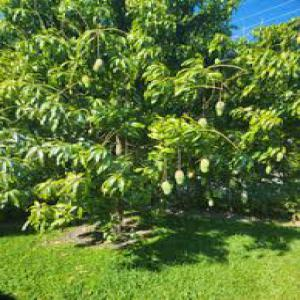Tree: (0, 3, 294, 250)
